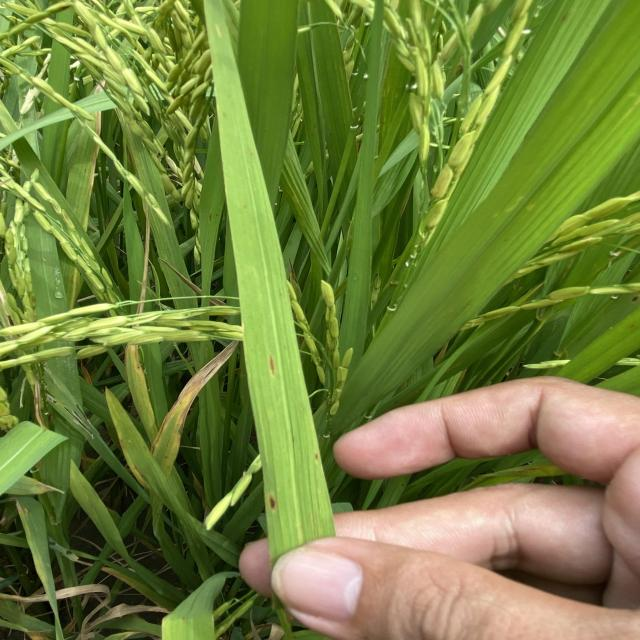Dom nau: (267, 493, 280, 517), (268, 355, 277, 377)
